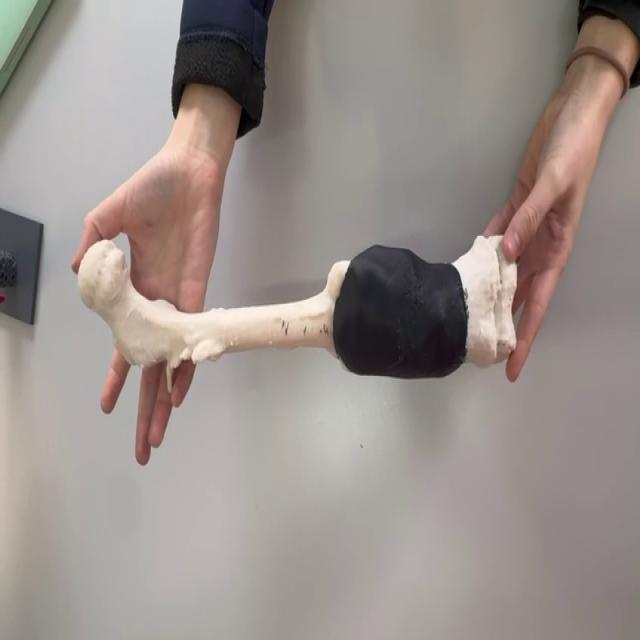bones: (77, 235, 517, 393)
